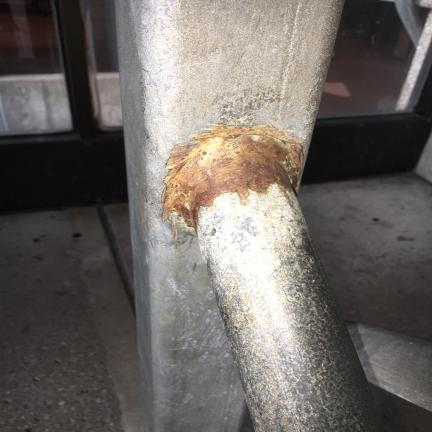karat: (162, 125, 302, 230)
